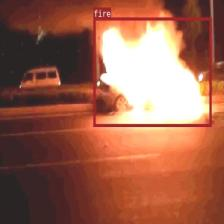fire: (93, 17, 211, 126)
